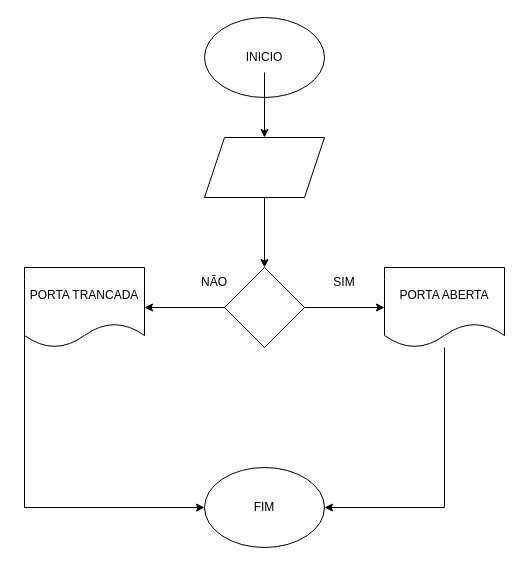
This 522x565 diagram has some shape labels left out. Here are the shapes that lost their labels. From the top down, the centre of each, then its label:
At point 264,167: "CHAVE".
At point 264,307: "chave>= 1".
